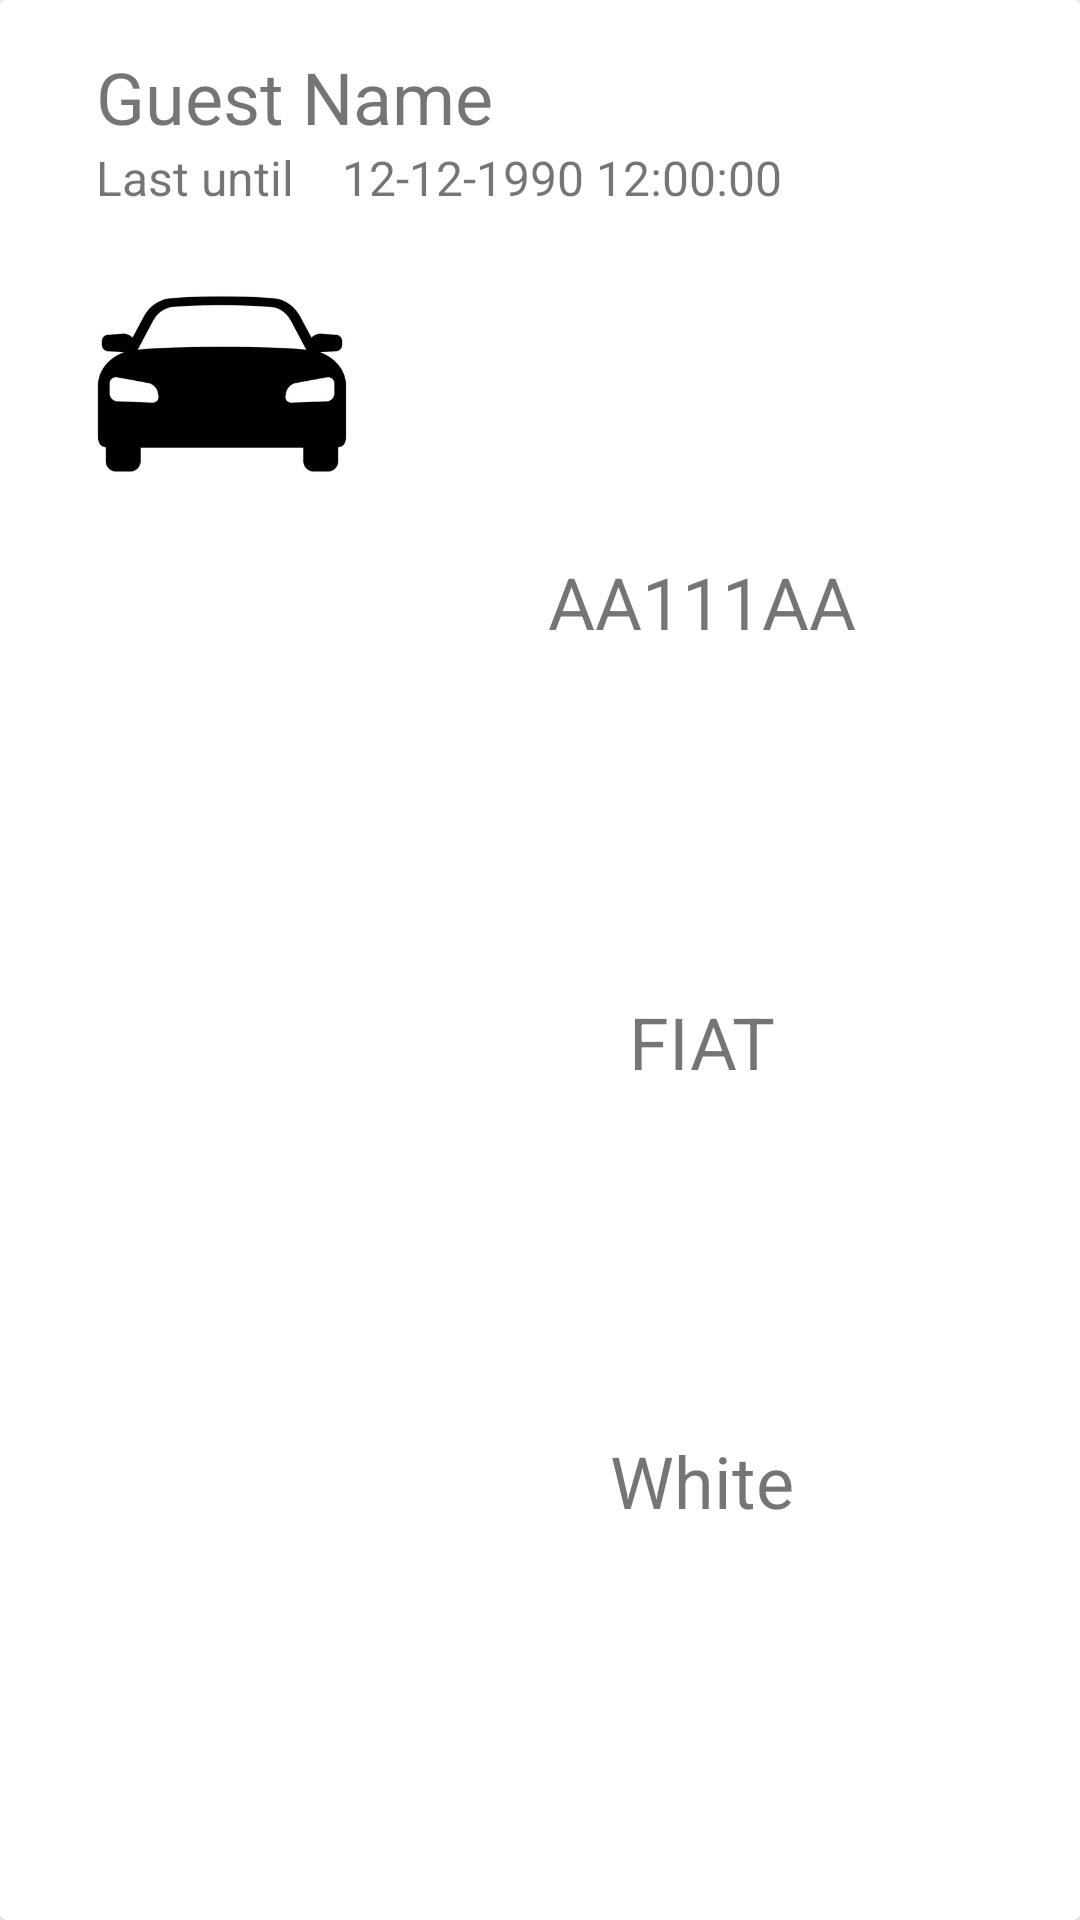

Locate icon controls on the screen. Image size 1080px x 1920px, boxes as [x1, y1, x2, y2].
car: [97, 296, 347, 472]
